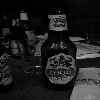beer: (42, 4, 79, 91)
